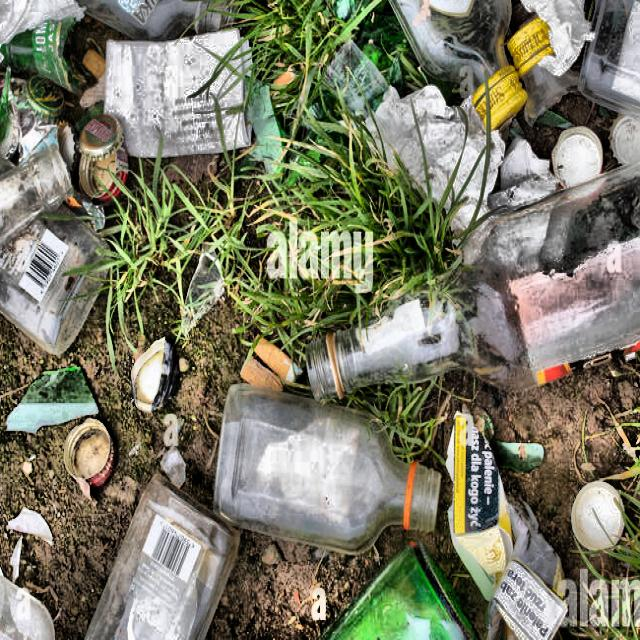glass: (61, 490, 236, 640)
metal: (82, 116, 126, 204)
paper: (451, 414, 558, 638), (107, 40, 245, 135), (541, 0, 588, 75)
